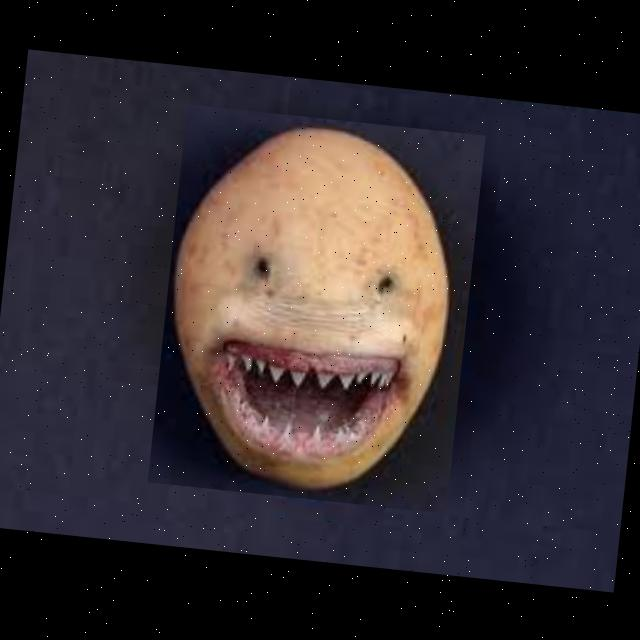Damaged potato: (147, 103, 484, 512)
